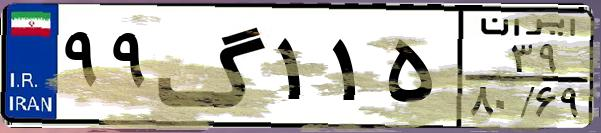0: (495, 70, 520, 125)
1: (270, 28, 330, 110), (330, 28, 385, 110)
3: (508, 27, 537, 80)
5: (385, 28, 445, 110)
6: (535, 70, 560, 125)
8: (470, 70, 495, 125)
9: (57, 26, 110, 100), (110, 28, 156, 98), (560, 70, 590, 125), (537, 27, 568, 80)
گ: (156, 12, 270, 120)
